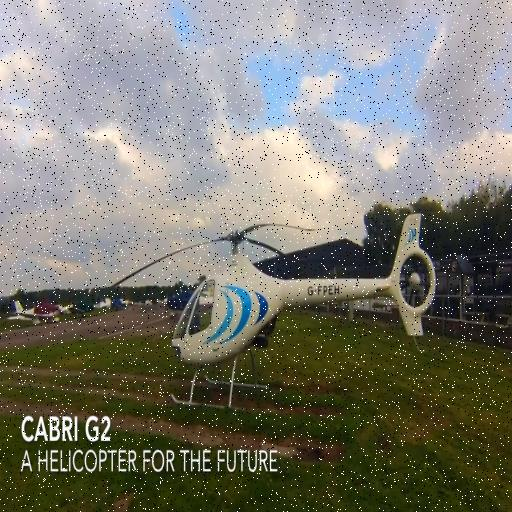helicopter: (100, 217, 440, 405)
